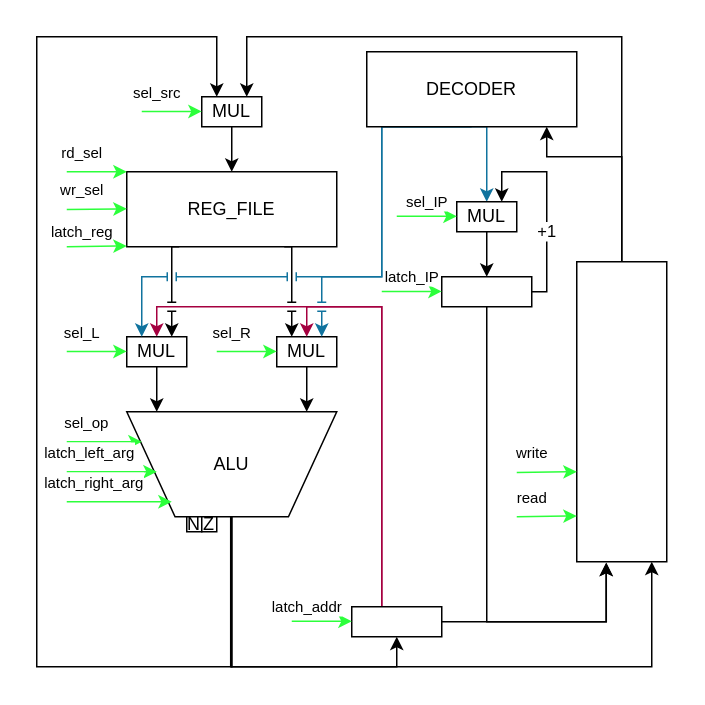
Some shapes in this 705 by 705 pixel diagram are drawn without their labels. Each missing label, with the centre of its shape:
ADDR: [396,621]
IP: [486,291]
MEMORY: [621,411]
